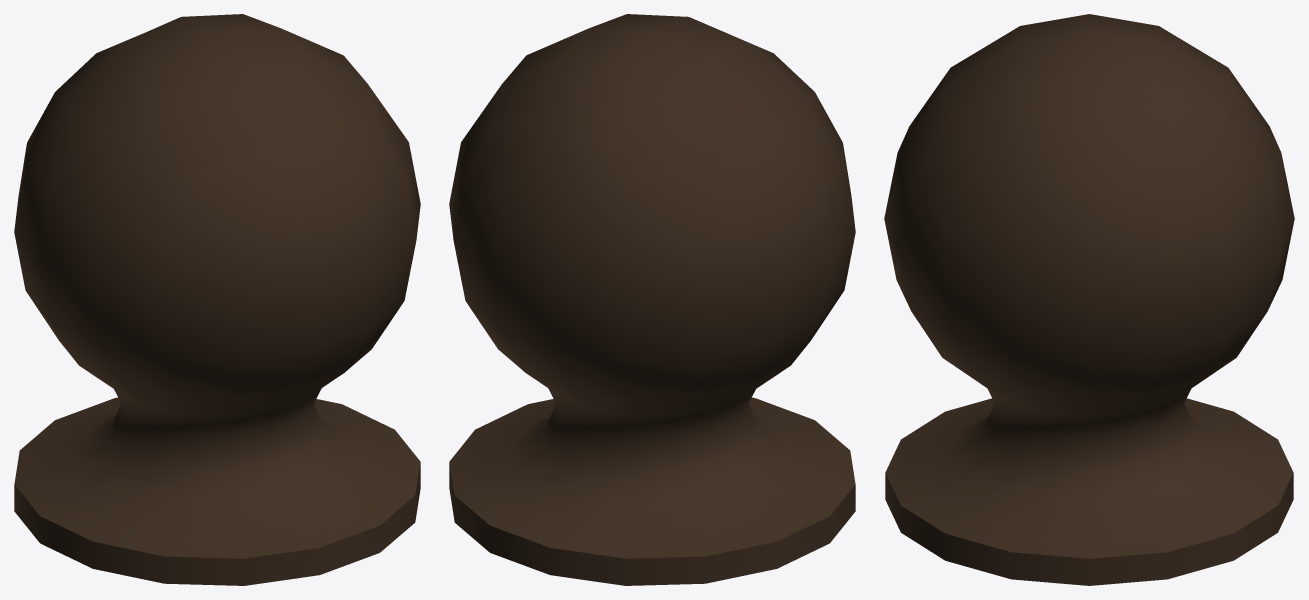
Rendered from newel_cap.glb.
3 renders of one model, left to right at view 1: azimuth 30°, elevation 25°; view 2: azimuth 150°, elevation 25°; view 3: azimuth 270°, elevation 25°, orthographic.
Visible parts, largest first — view 1: newel_cap; view 2: newel_cap; view 3: newel_cap.
Part boxes in pixels (x1,y1,x2,y2): newel_cap: (14, 14, 420, 585); newel_cap: (449, 14, 855, 585); newel_cap: (884, 14, 1294, 585).
Bounding box in the file's own units: 0.0782 × 0.0981 × 0.0782.
1 material, 1 textured.
